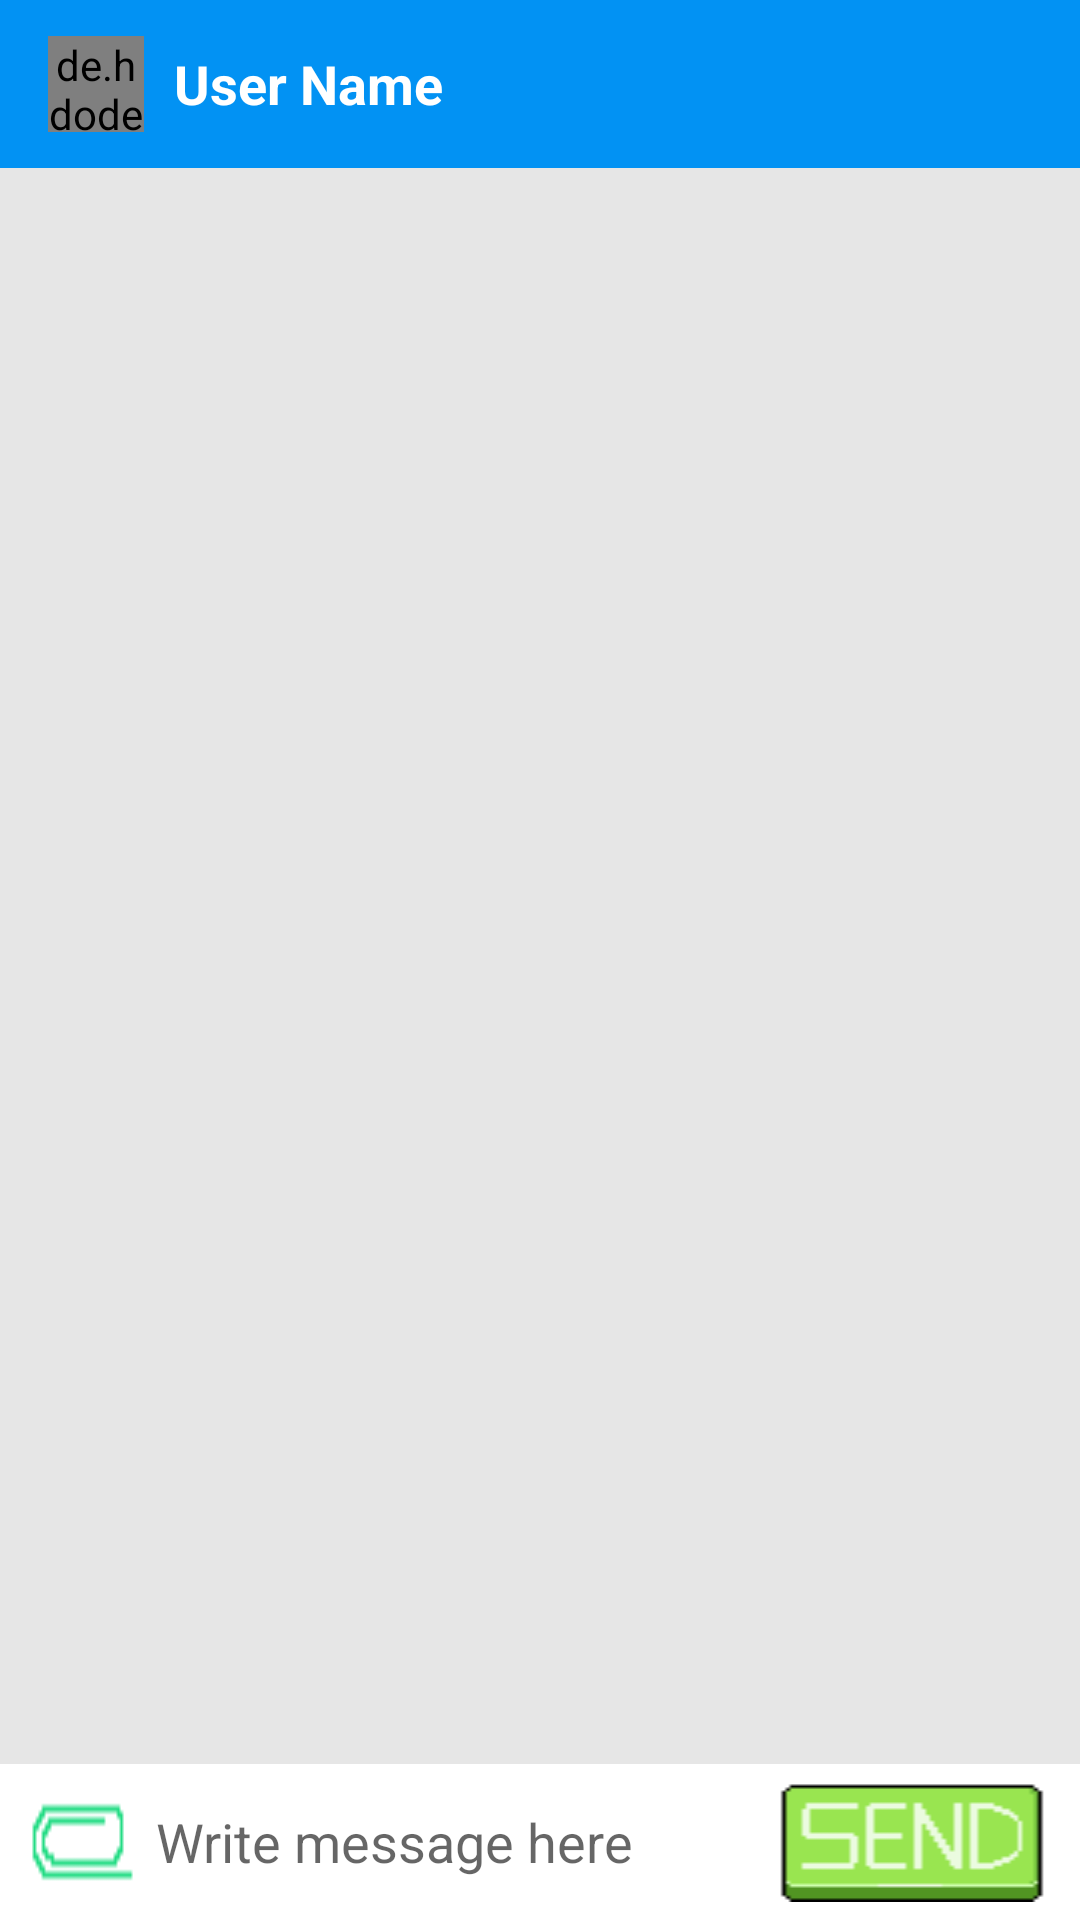

Screen size 1080px x 1920px. Icon name, then its box in pixels as box(x1, y1, x2, y2):
attach file: box(32, 1804, 133, 1880)
